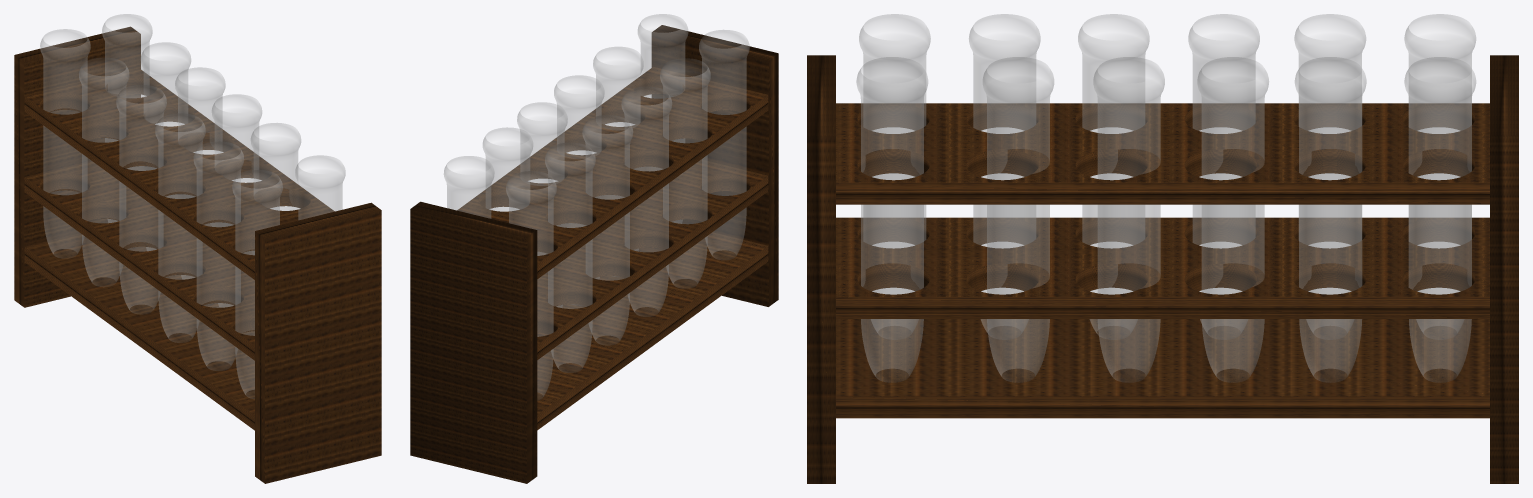
Rendered from TUBES.glb.
The picture shows the model from 3 angles, left to right: view 1: azimuth 30°, elevation 25°; view 2: azimuth 150°, elevation 25°; view 3: azimuth 270°, elevation 25°; orthographic projection. The views are drawn at different scales.
Visible parts, largest first — view 1: Cube.003, Cube.001, Cube, Cube.002, Cube.004, Cylinder.002, Cylinder.003, Cylinder, Cylinder.004, Cylinder.001, Cylinder.005, Cylinder.006 (+5 smaller); view 2: Cube.004, Cube.001, Cube, Cube.002, Cube.003, Cylinder.001, Cylinder.005, Cylinder.004, Cylinder.003, Cylinder.002, Cylinder, Cylinder.011 (+5 smaller); view 3: Cube.002, Cube.001, Cube, Cylinder.007, Cylinder.006, Cylinder.011, Cylinder.008, Cylinder.010, Cylinder.009, Cube.003, Cube.004, Cylinder.003 (+5 smaller).
Part boxes in pixels (x1,y1,x2,y2): Cube.003: (255, 202, 381, 483); Cube.001: (24, 68, 334, 279); Cube: (24, 161, 254, 360); Cube.002: (24, 233, 254, 430); Cube.004: (14, 26, 140, 307); Cylinder.002: (116, 85, 166, 314); Cylinder.003: (155, 113, 205, 342); Cylinder: (40, 29, 90, 258); Cylinder.004: (194, 141, 243, 370); Cylinder.001: (79, 58, 128, 286); Cylinder.005: (232, 170, 282, 398); Cylinder.006: (102, 14, 152, 222); Cube.004: (410, 201, 537, 483); Cube.001: (457, 67, 768, 278); Cube: (537, 159, 768, 359); Cube.002: (537, 232, 768, 430); Cube.003: (651, 25, 778, 306); Cylinder.001: (545, 143, 595, 372); Cylinder.005: (699, 30, 749, 259); Cylinder.004: (660, 58, 710, 288); Cylinder.003: (621, 87, 671, 316); Cylinder.002: (582, 115, 632, 345); Cylinder: (506, 171, 556, 399); Cylinder.011: (638, 14, 687, 223); Cube.002: (836, 319, 1489, 418); Cube.001: (836, 103, 1489, 204); Cube: (836, 217, 1489, 318); Cylinder.007: (1295, 57, 1366, 382); Cylinder.006: (1404, 57, 1475, 382); Cylinder.011: (856, 57, 927, 382); Cylinder.008: (1197, 57, 1268, 382); Cylinder.010: (983, 57, 1053, 382); Cylinder.009: (1093, 57, 1164, 382); Cube.003: (807, 55, 835, 483); Cube.004: (1490, 55, 1518, 483); Cylinder.003: (1078, 14, 1149, 335).
Size of the model in its own units: 5.25 by 11.9 by 19.58.
Materials: 2 (1 with a texture image).
